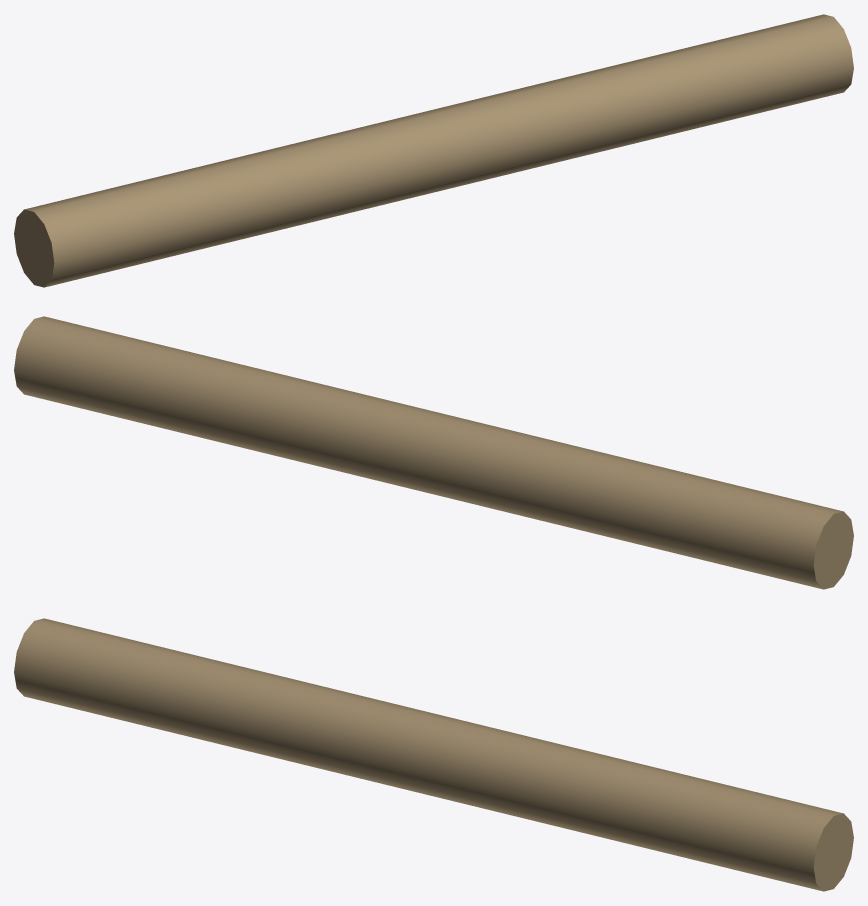
The model's file is DamPropPipeStraight.fbx.
3 views of the same model, one above another, from view 1: azimuth 30°, elevation 25°; view 2: azimuth 150°, elevation 25°; view 3: azimuth 330°, elevation 25° (orthographic).
Parts seen in each view (by area): view 1: PipeStraight; view 2: PipeStraight; view 3: PipeStraight.
Boxes of the visible parts, x1,y1,x2,y2 form: PipeStraight: (14, 14, 853, 287); PipeStraight: (14, 316, 853, 589); PipeStraight: (14, 618, 853, 891).
Bounding box in the file's own units: 6.47 × 0.5653 × 0.5653.
